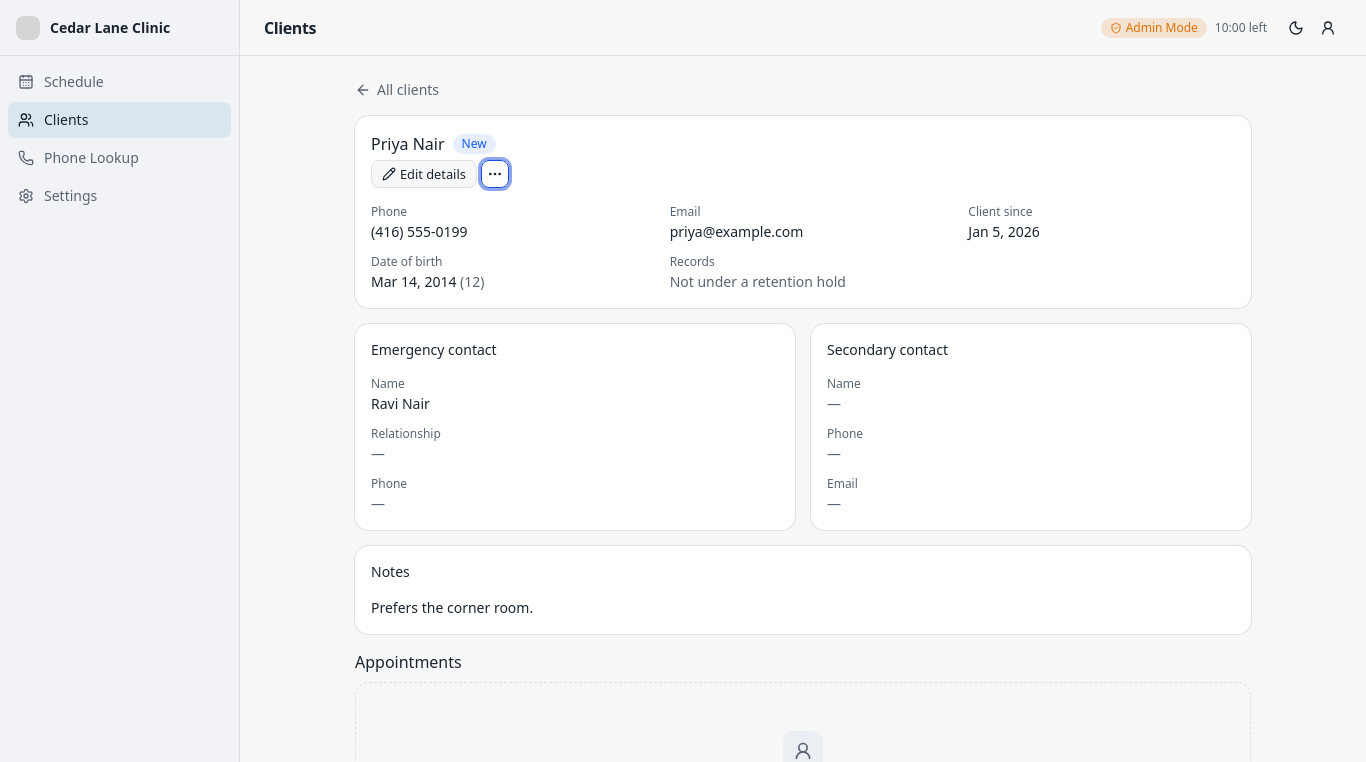
with no hold, the dialog says names and DOB go too, and nothing is sent until confirmed
This screenshot has width=1366, height=762.
Step 1. Press Enter
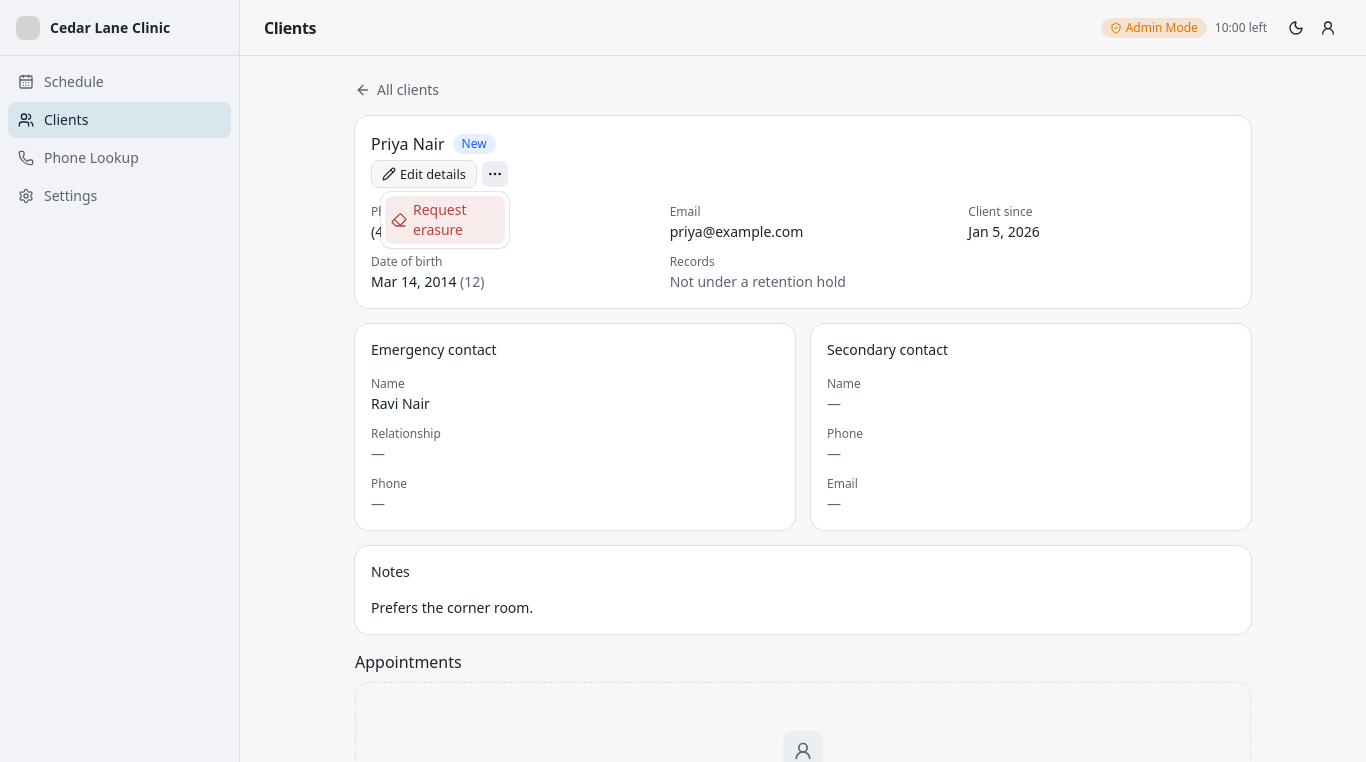
Step 2. Click the menu item "Request erasure" → (445, 220), box x1=385 y1=196 x2=505 y2=244
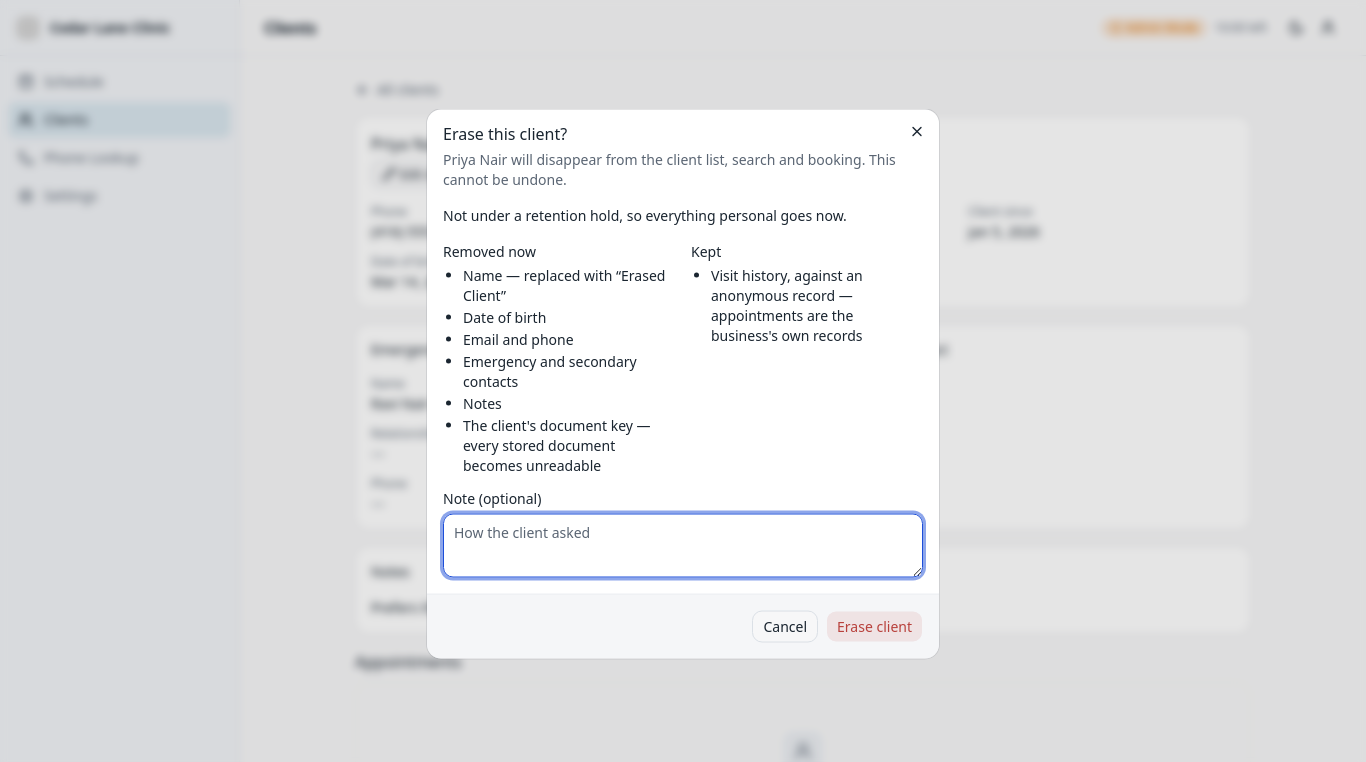
expect the text "Not under a retention hold, so everything personal goes now." is shown: met, box x1=443 y1=206 x2=847 y2=224
expect the list item "Name — replaced with “Erased Client”" is shown: met, box x1=463 y1=266 x2=675 y2=306
expect the list item "Date of birth" is shown: met, box x1=463 y1=308 x2=546 y2=326
Step 3. Type "Asked by phone" into the text box labelled "Note (optional)" → (683, 546), box x1=443 y1=514 x2=923 y2=578
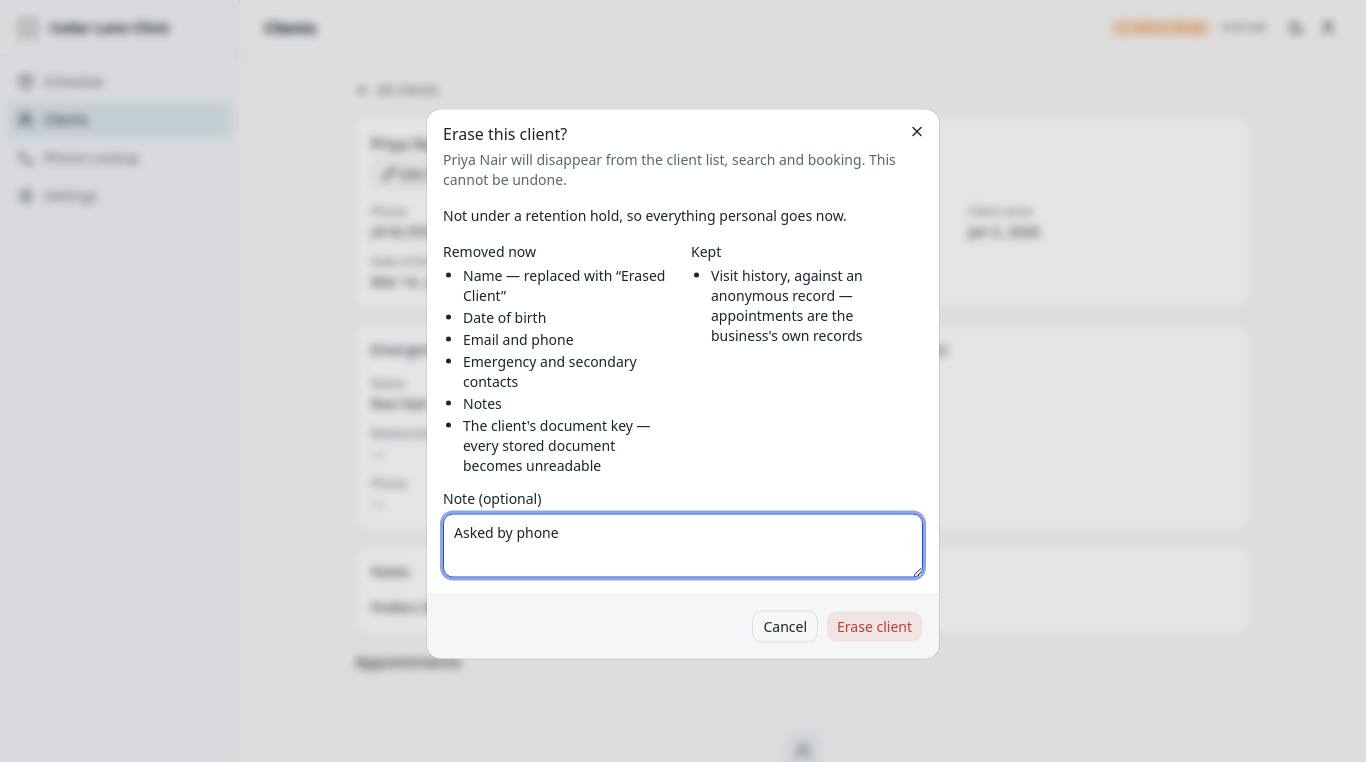
Step 4. Click the button "Erase client" → (875, 626), box x1=826 y1=610 x2=923 y2=642
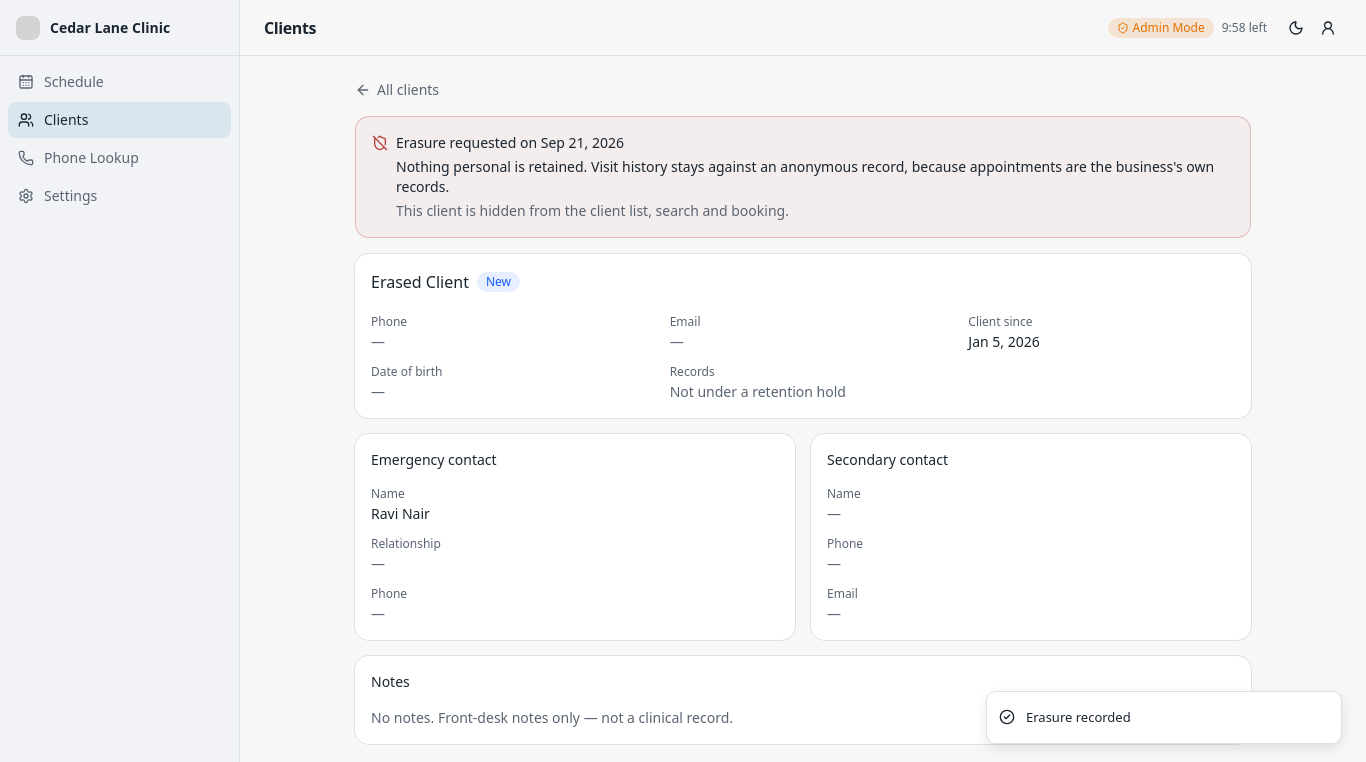
expect the message "Erasure requested" shows "Nothing personal is retained": met, box x1=396 y1=157 x2=1214 y2=196
expect the heading "Erased Client" is shown: met, box x1=371 y1=270 x2=469 y2=294
